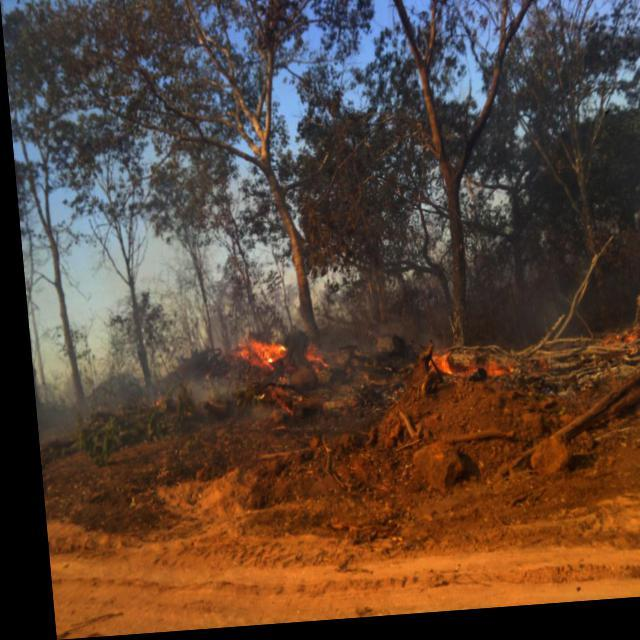Fire: (222, 339, 282, 376)
